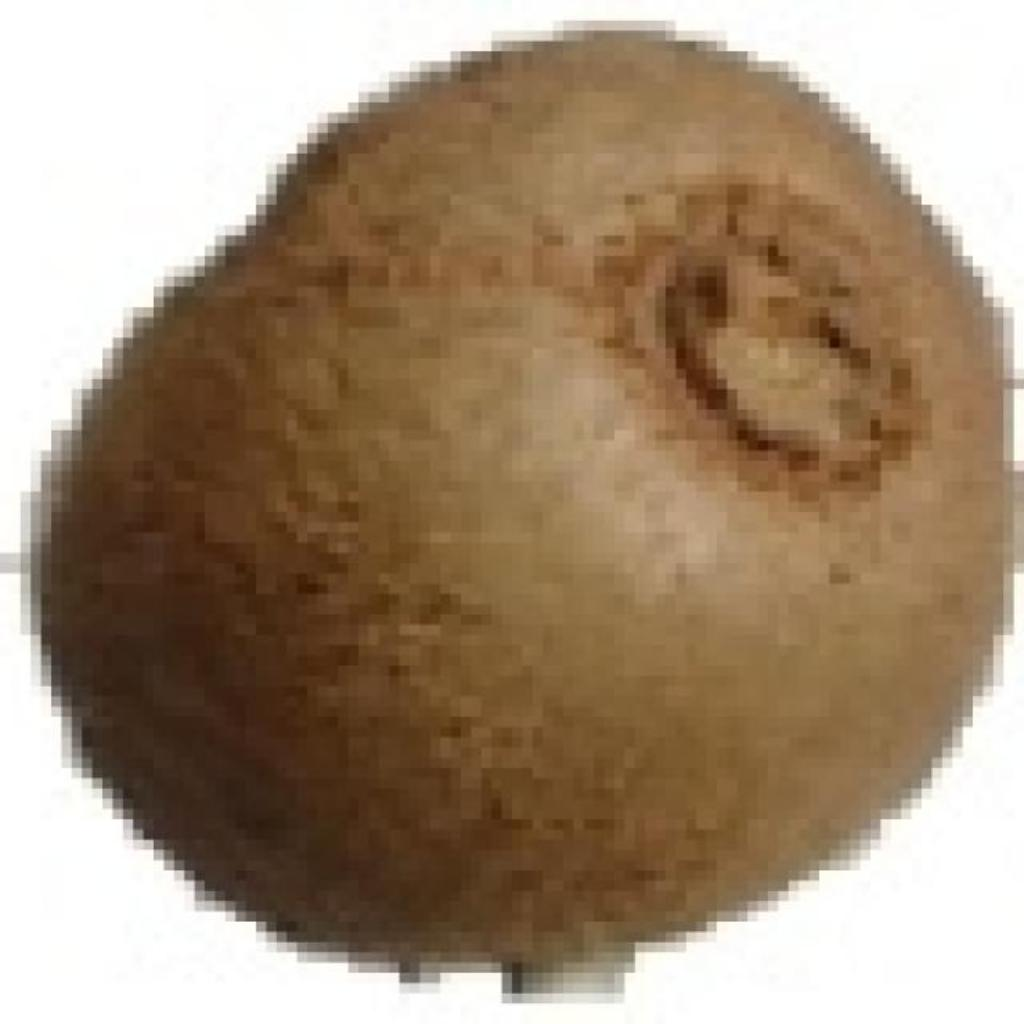kiwi: (46, 39, 1004, 992)
